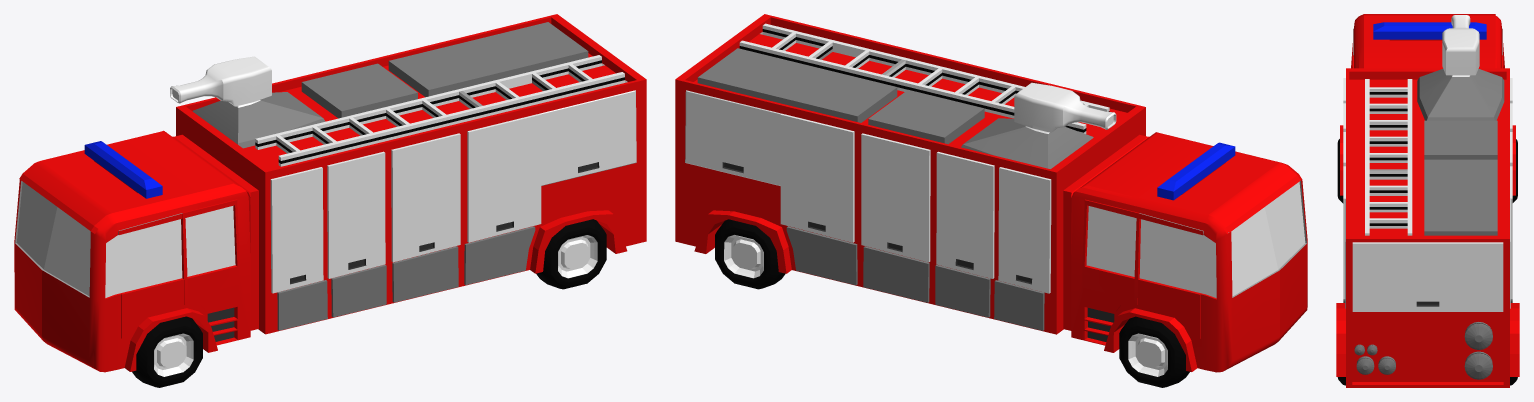
The model's file is firetruck.fbx.
3 renders of one model, left to right at view 1: azimuth 30°, elevation 25°; view 2: azimuth 150°, elevation 25°; view 3: azimuth 270°, elevation 25°, orthographic. The views are drawn at different scales.
Visible parts, largest first — view 1: pCylinder7; view 2: pCylinder7; view 3: pCylinder7.
Boxes of the visible parts, x1,y1,x2,y2 form: pCylinder7: [14, 14, 646, 387]; pCylinder7: [675, 14, 1307, 387]; pCylinder7: [1336, 14, 1519, 387].
Size of the model in its own units: 11.37 by 4.65 by 3.49.
